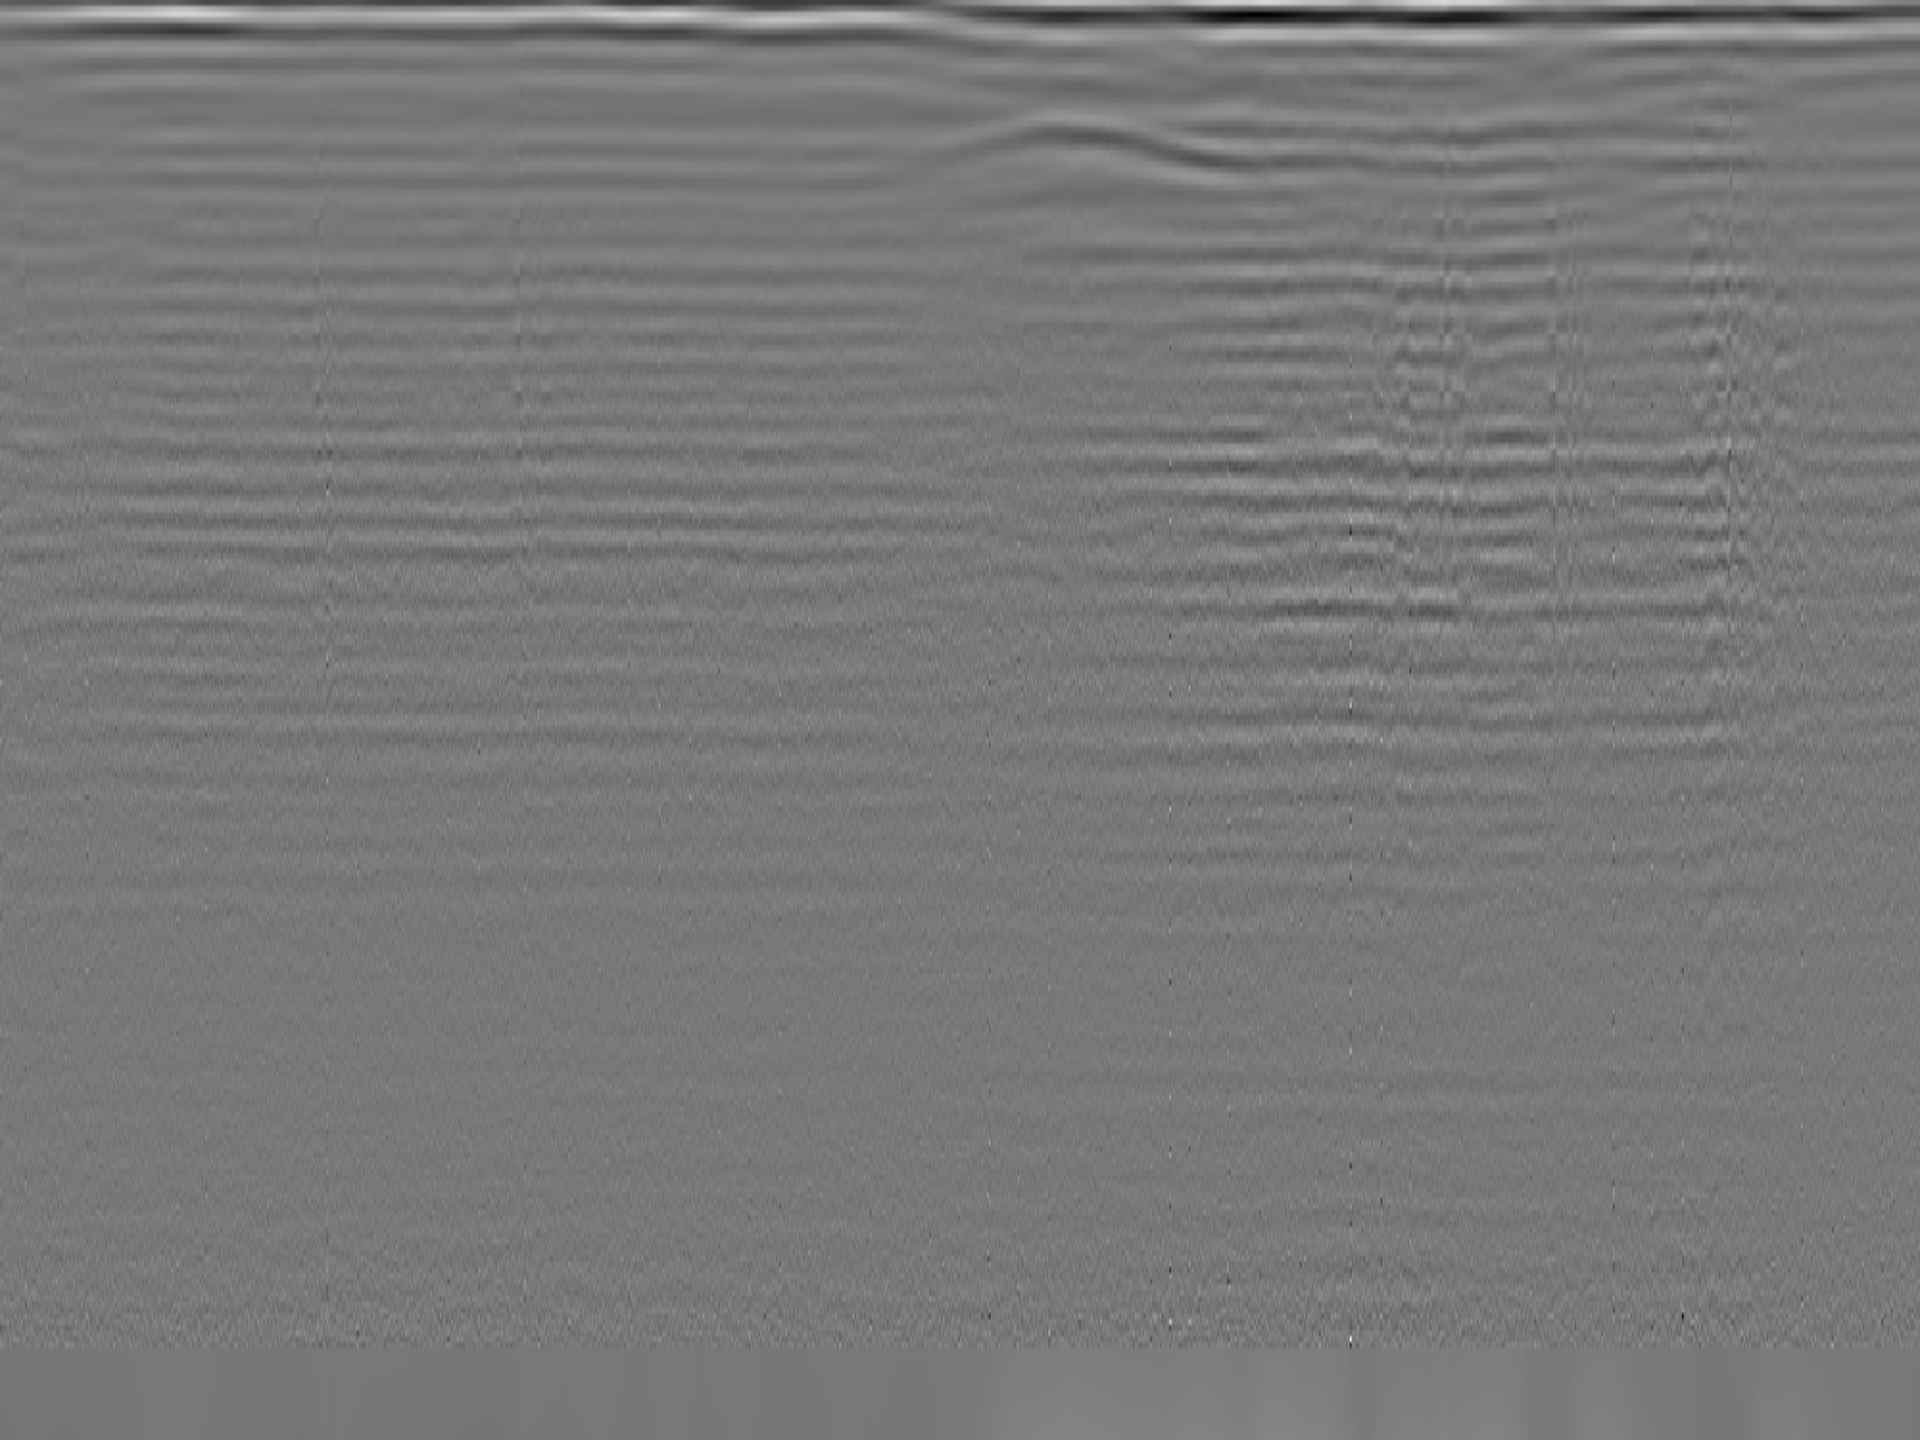Tunnel: (898, 112, 1279, 175)
